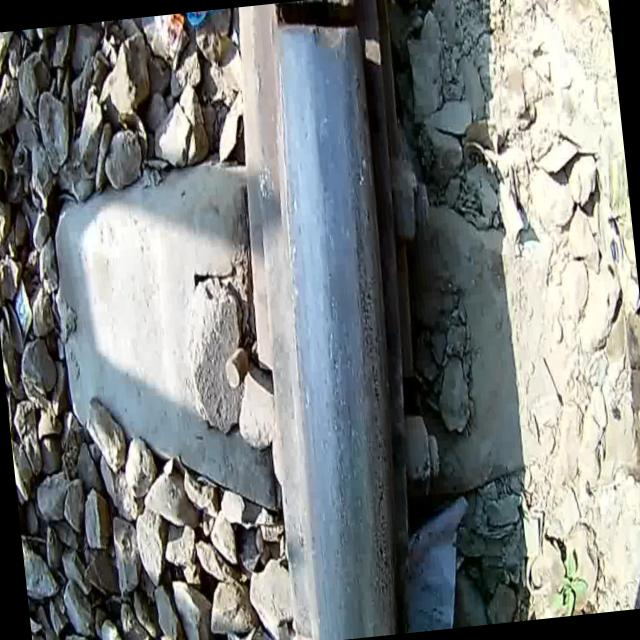Joint: (254, 0, 377, 71)
